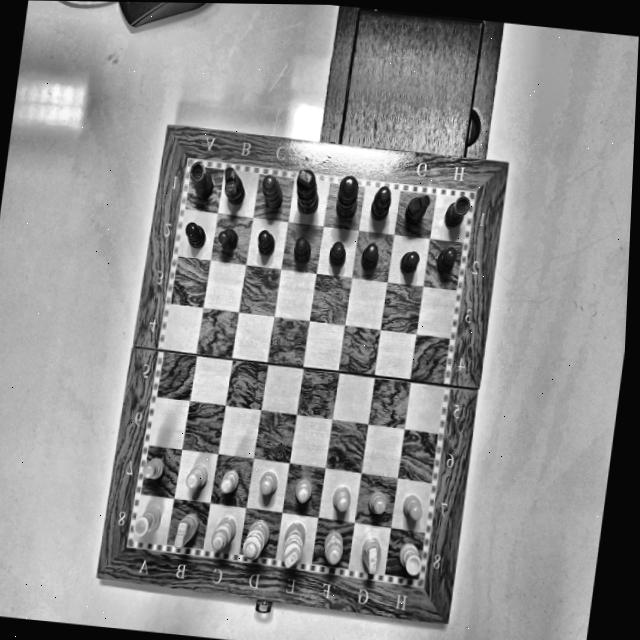black-bishop: (254, 168, 291, 211), (366, 183, 397, 219)
black-king: (284, 164, 329, 221)
black-knight: (213, 160, 252, 208), (397, 188, 433, 228)
black-pawn: (179, 213, 208, 250), (433, 240, 460, 278), (321, 236, 350, 270), (352, 241, 381, 273), (393, 246, 424, 275), (211, 220, 240, 250), (251, 226, 276, 256), (289, 237, 313, 263)
black-queen: (330, 172, 366, 218)
black-rook: (181, 155, 219, 201), (439, 191, 472, 231)
white-bishop: (204, 513, 237, 553), (318, 528, 347, 568)
white-king: (275, 518, 306, 573)
white-knight: (168, 507, 202, 550), (356, 534, 383, 578)
white-pawn: (395, 491, 428, 526), (182, 459, 210, 493), (215, 464, 242, 498), (291, 470, 315, 508), (254, 467, 280, 500), (139, 451, 165, 483), (327, 481, 352, 513), (364, 487, 388, 518)
white-queen: (236, 516, 272, 563)
white-rook: (393, 536, 423, 581), (128, 501, 162, 540)
